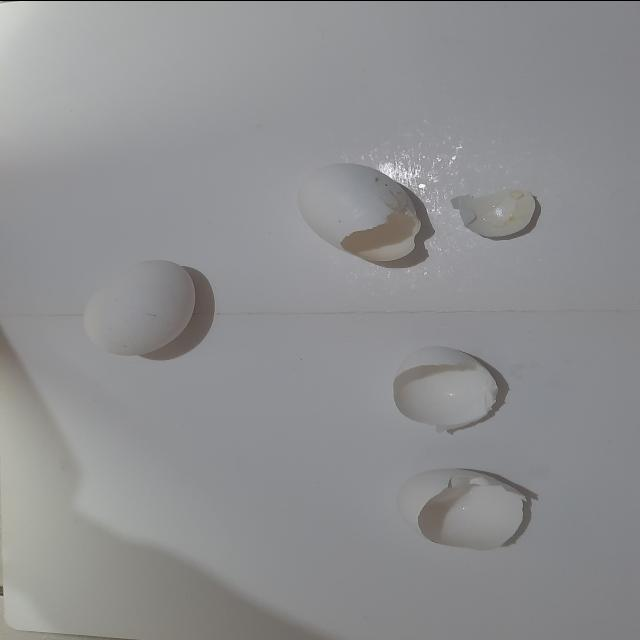egg shell: (288, 158, 438, 268), (384, 458, 538, 552), (72, 254, 204, 360), (382, 338, 520, 438), (451, 181, 541, 247)
